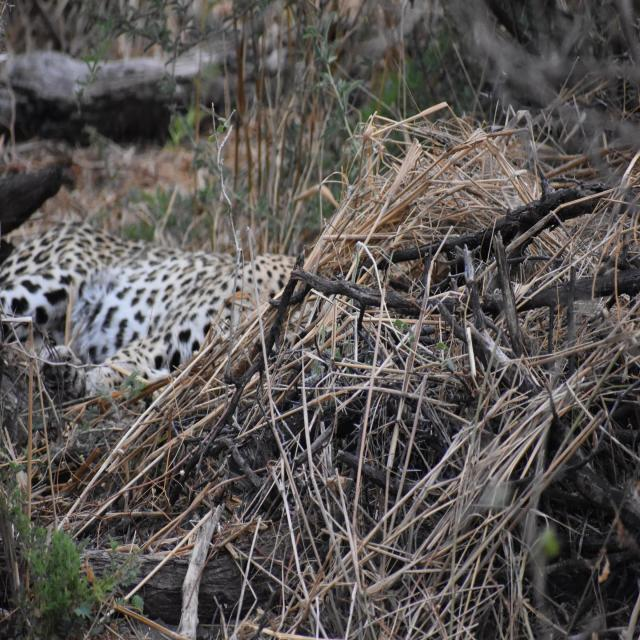Leopard: (1, 214, 310, 407)
